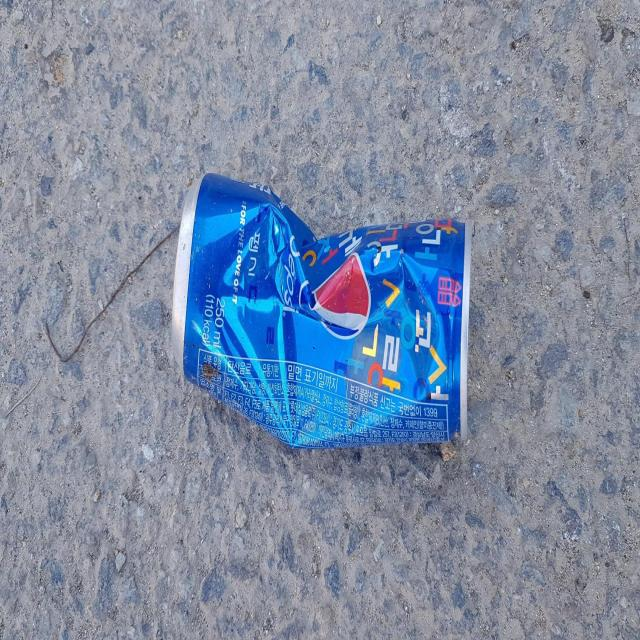can: (172, 173, 473, 448)
